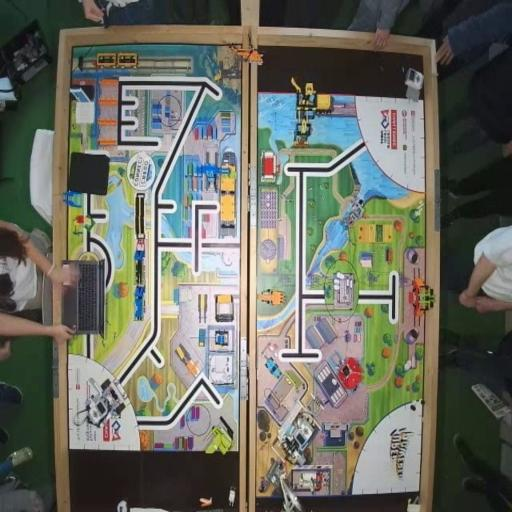lego_robot: (73, 377, 128, 434), (277, 405, 321, 467)
